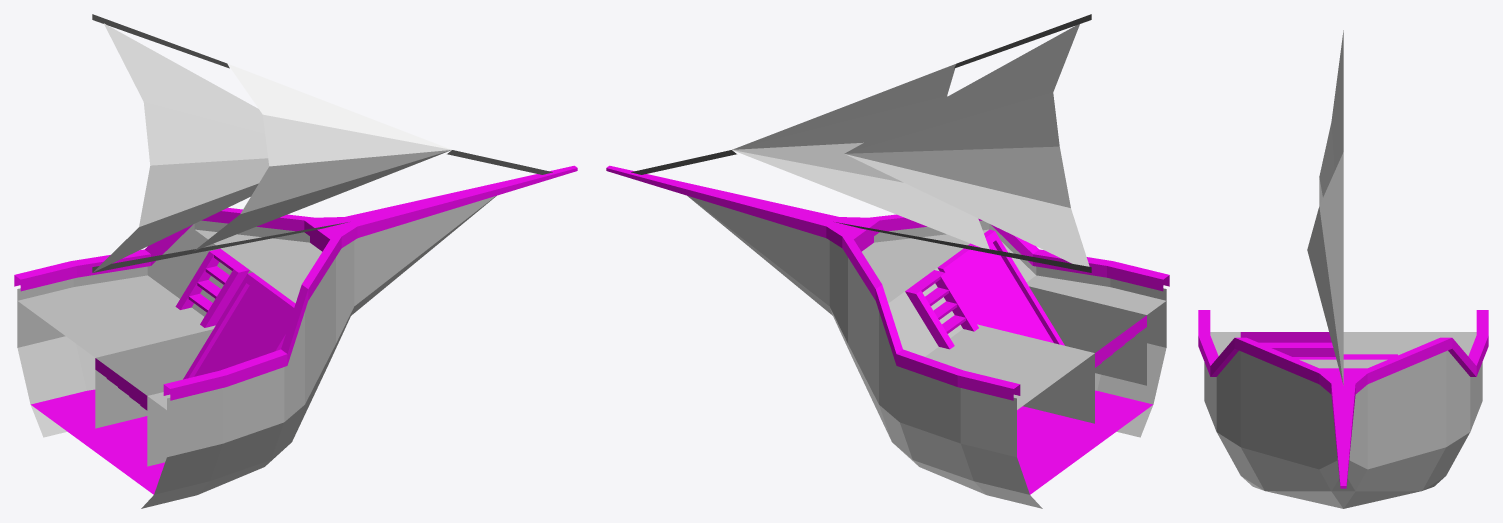
Rendered from Shipfront.obj.
The picture shows the model from 3 angles, left to right: view 1: azimuth 30°, elevation 25°; view 2: azimuth 150°, elevation 25°; view 3: azimuth 270°, elevation 25°; orthographic projection. The views are drawn at different scales.
Parts seen in each view (by area): view 1: Shipfront_back, Shipfront_front; view 2: Shipfront_back, Shipfront_front; view 3: Shipfront_back, Shipfront_front.
Boxes of the visible parts, bbox=[...] form: Shipfront_back: bbox=[17, 14, 552, 508]; Shipfront_front: bbox=[14, 165, 577, 494]; Shipfront_back: bbox=[631, 14, 1166, 508]; Shipfront_front: bbox=[606, 165, 1169, 494]; Shipfront_back: bbox=[1204, 30, 1482, 508]; Shipfront_front: bbox=[1198, 310, 1488, 488].
Size of the model in its own units: 6.88 by 6.24 by 3.84.
